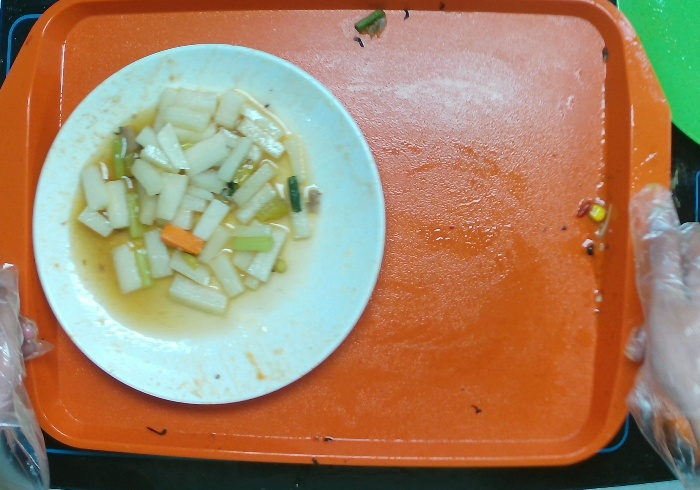HZYJPL-Bai_Se_Yuan_Pan: (28, 38, 393, 417)
